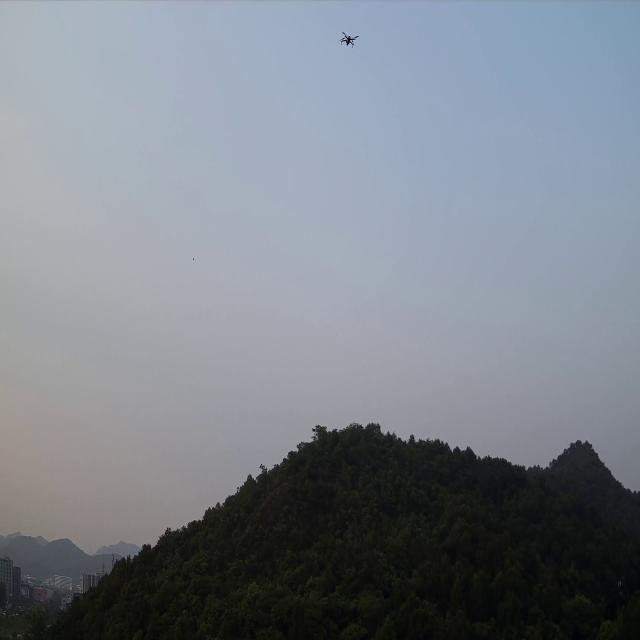UAV: (338, 30, 360, 49)
